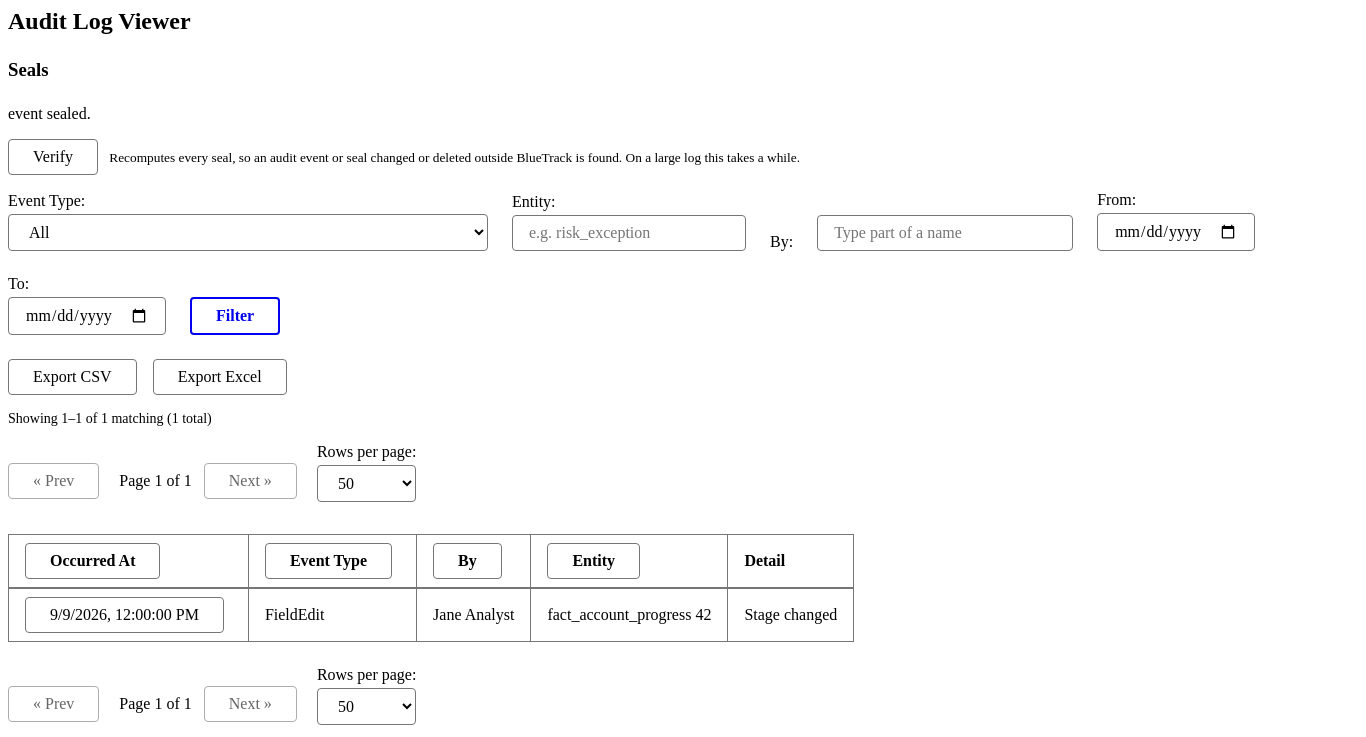
it: AuditLogViewer.vue › field-level changes › a refused load is an error, not "none"
Click the button "9/9/2026, 12:00:00 PM" at (124, 615), box [25, 597, 224, 633]
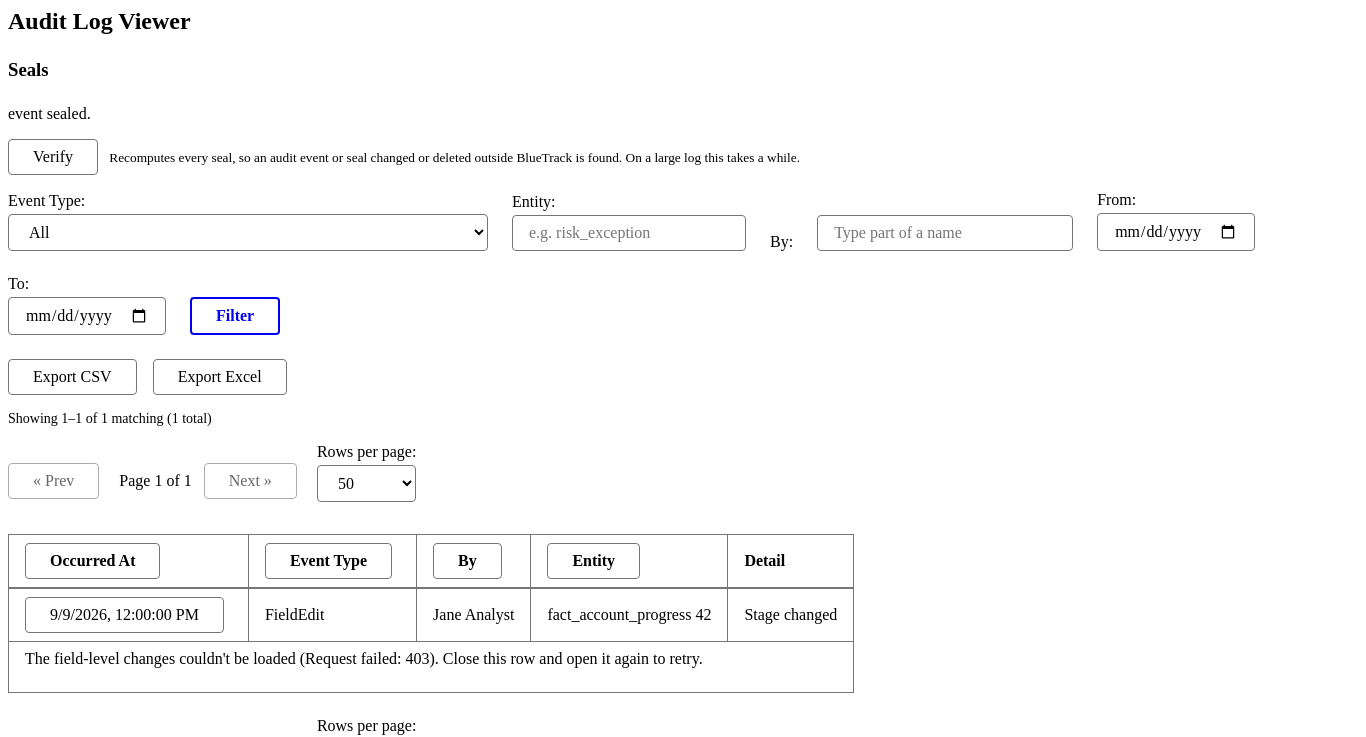
Result: the 2nd message shows "Request failed: 403" at [25, 650, 703, 667]
